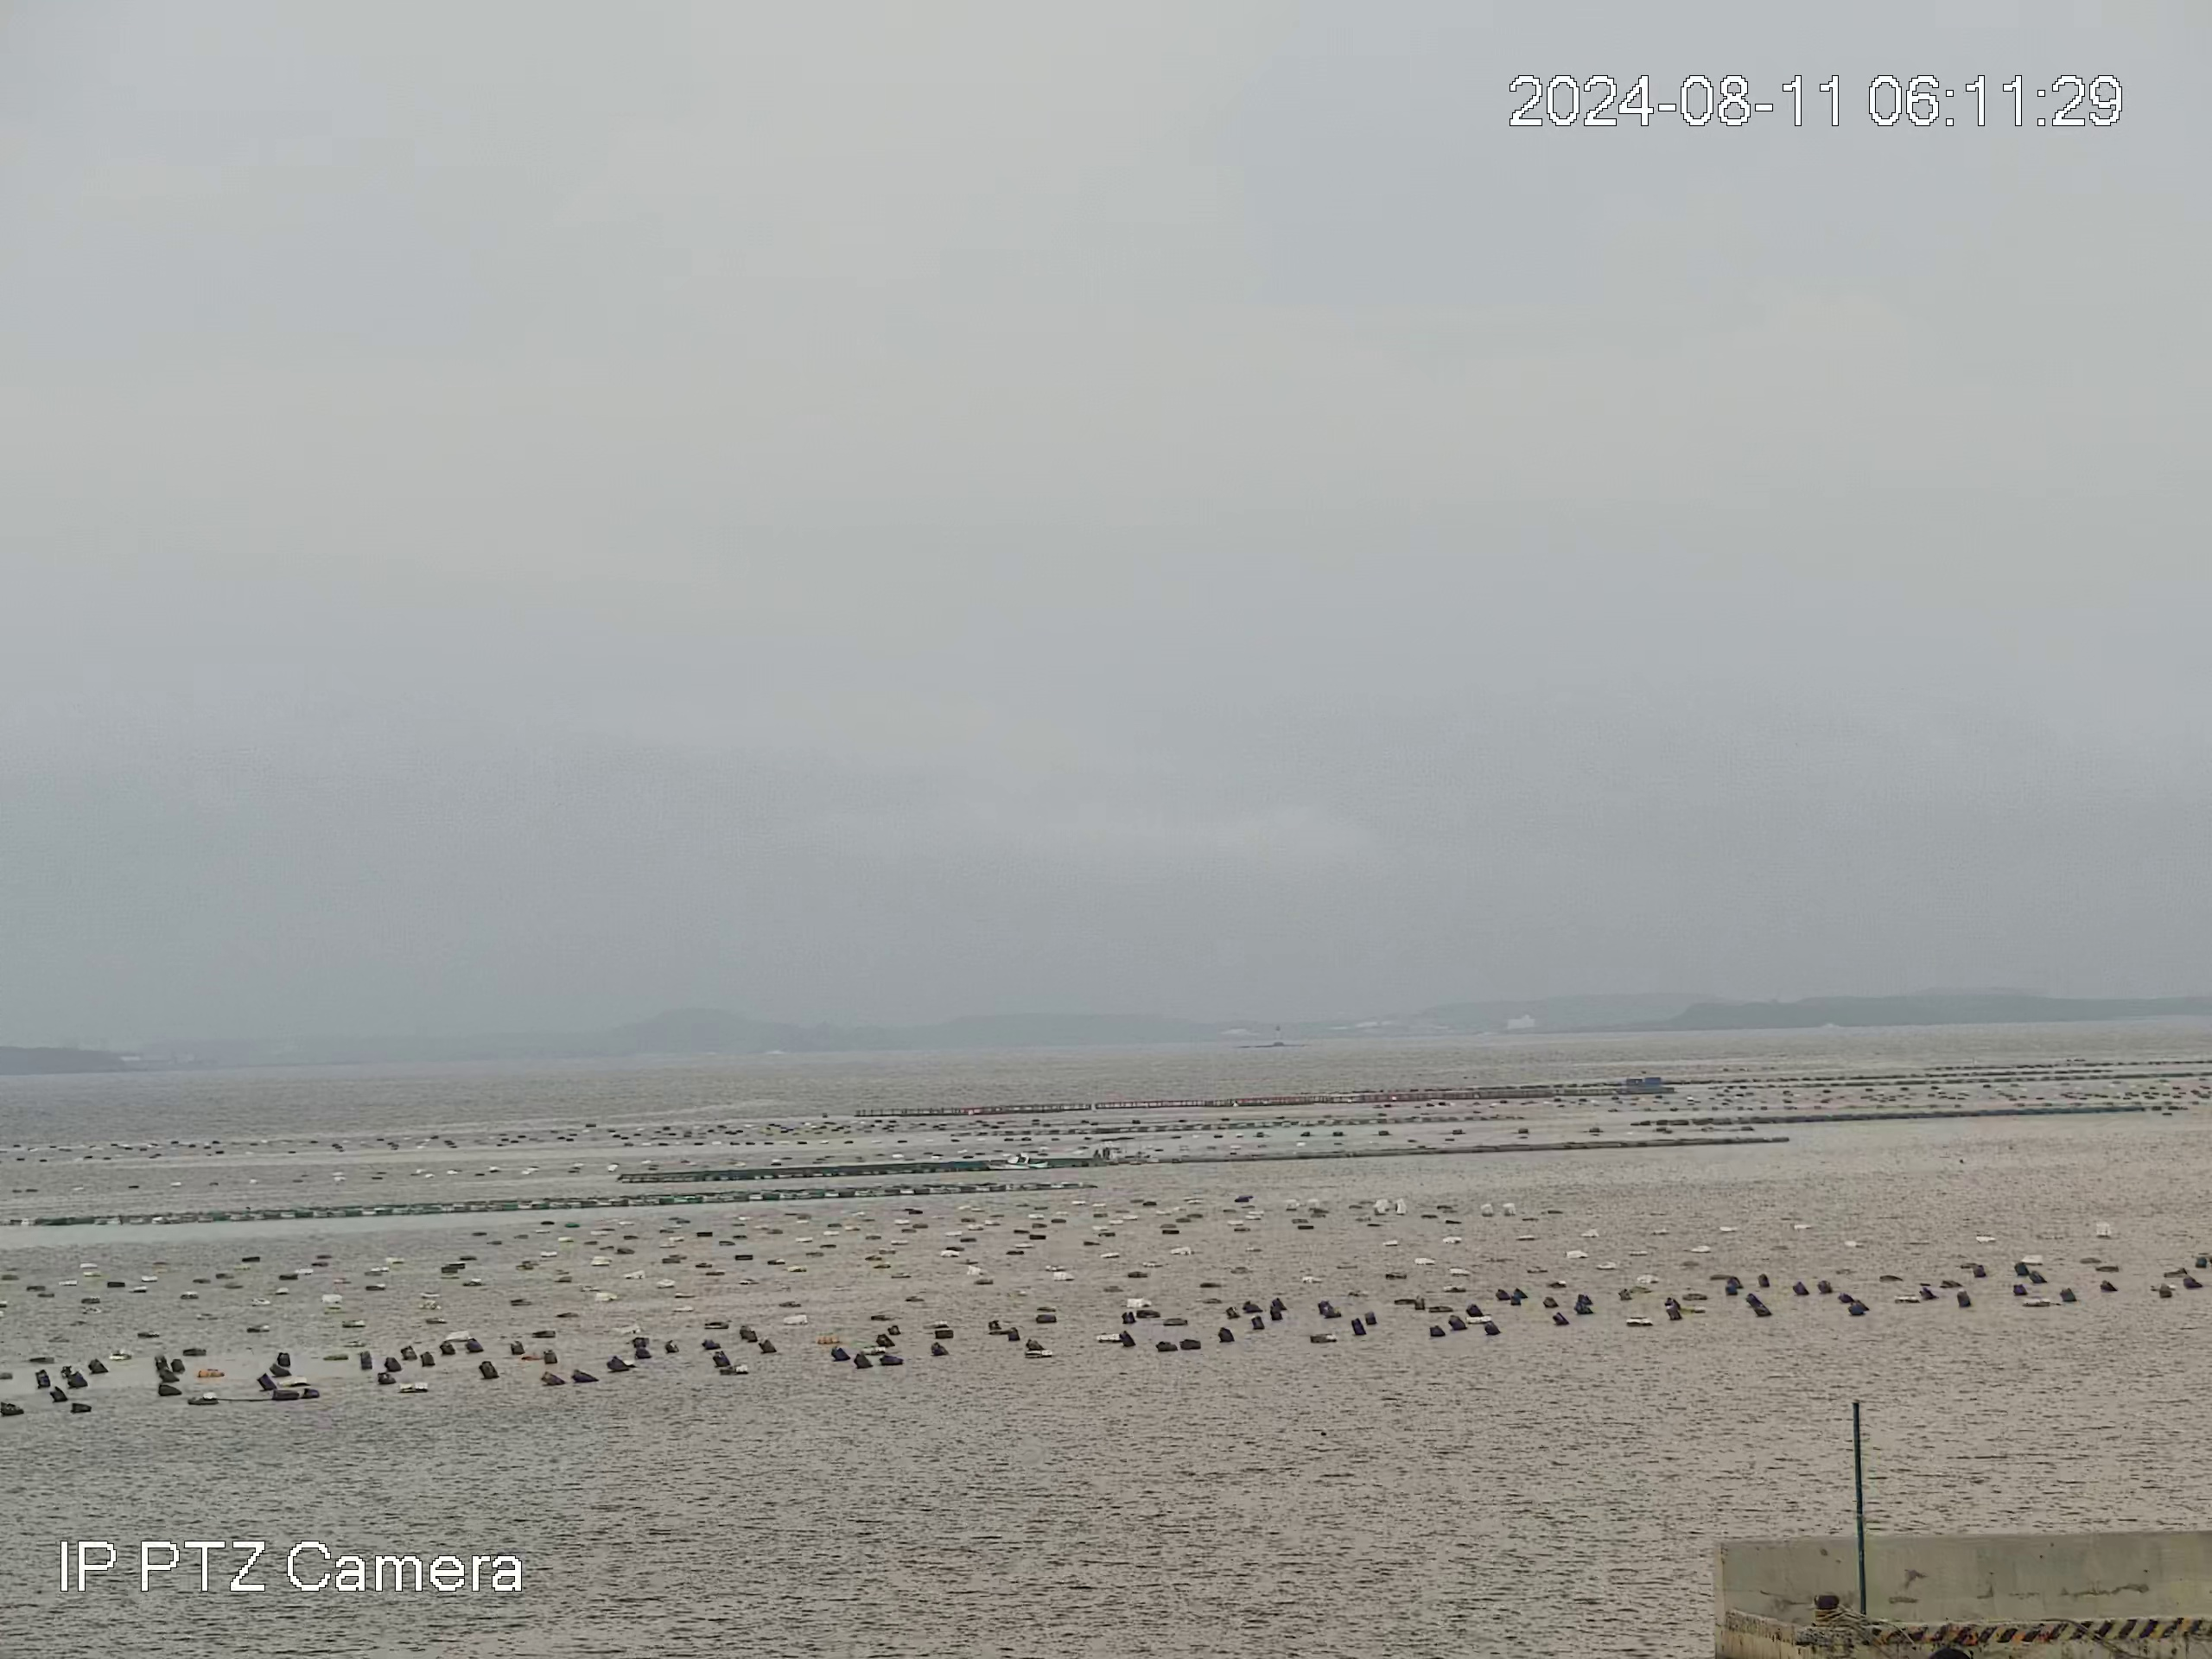boat: (981, 1150, 1050, 1173)
